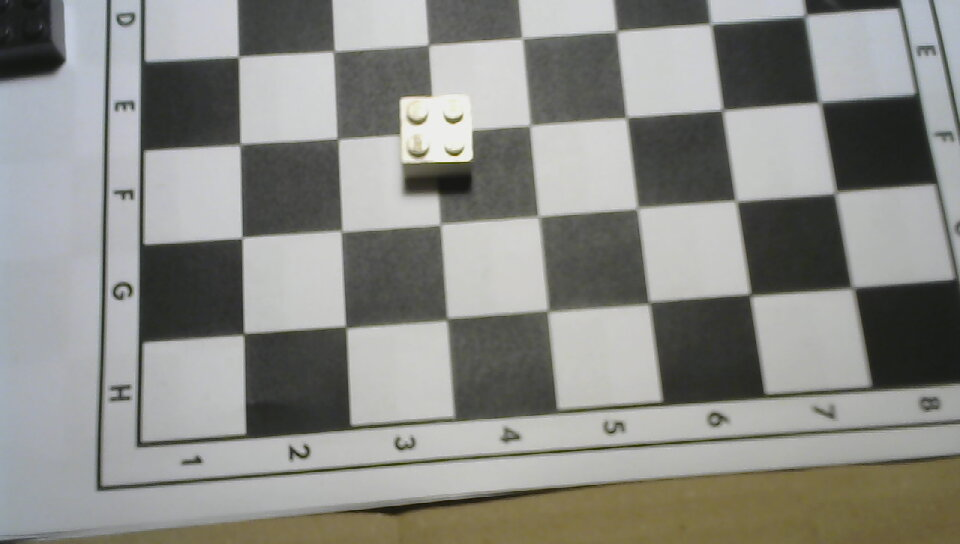wp: (388, 89, 482, 195)
